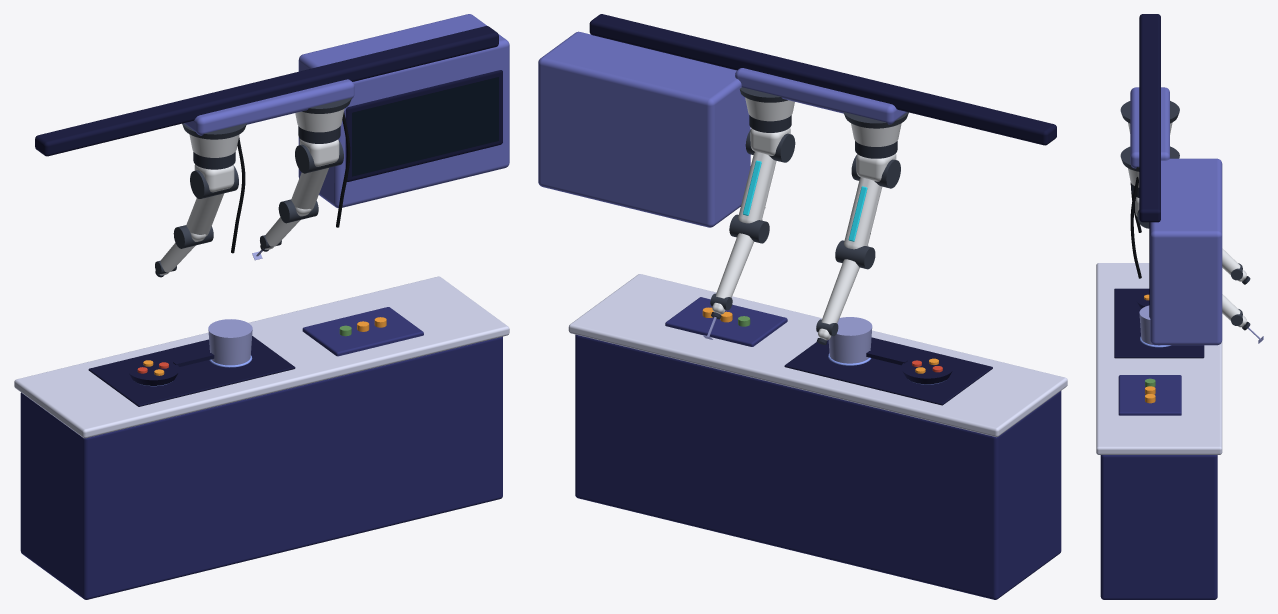
The model's file is kitchenChef.glb.
3 views of the same model, side by side, from view 1: azimuth 30°, elevation 25°; view 2: azimuth 150°, elevation 25°; view 3: azimuth 270°, elevation 25° (orthographic). The views are drawn at different scales.
Parts seen in each view (by area): view 1: counter, top, garage, rail, plates, cooktop, carBody, board, plateFrame, pot, pan, R_upperArm (+7 smaller); view 2: counter, garage, top, rail, cooktop, carBody, board, pot, L_upperArm, R_upperArm, pan, L_forearm (+7 smaller); view 3: counter, garage, top, rail, cooktop, board, carBody, pot, R_cable, L_plate, R_plate, R_forearm (+1 smaller).
Boxes of the visible parts, x1=… form: counter: x1=20, y1=336, x2=502, y2=599; top: x1=14, y1=276, x2=509, y2=438; garage: x1=298, y1=14, x2=509, y2=208; rail: x1=35, y1=26, x2=498, y2=156; plates: x1=352, y1=77, x2=498, y2=176; cooktop: x1=88, y1=336, x2=295, y2=406; carBody: x1=184, y1=79, x2=354, y2=135; board: x1=302, y1=307, x2=423, y2=356; plateFrame: x1=345, y1=70, x2=502, y2=181; pot: x1=208, y1=319, x2=252, y2=365; pan: x1=127, y1=353, x2=214, y2=385; R_upperArm: x1=291, y1=168, x2=328, y2=210; counter: x1=575, y1=334, x2=1061, y2=599; garage: x1=538, y1=31, x2=750, y2=227; top: x1=568, y1=274, x2=1067, y2=437; rail: x1=589, y1=14, x2=1056, y2=145; cooktop: x1=784, y1=337, x2=992, y2=405; carBody: x1=735, y1=68, x2=906, y2=124; board: x1=665, y1=297, x2=787, y2=346; pot: x1=828, y1=317, x2=872, y2=363; L_upperArm: x1=844, y1=177, x2=882, y2=249; R_upperArm: x1=738, y1=152, x2=776, y2=223; pan: x1=866, y1=351, x2=953, y2=384; L_forearm: x1=821, y1=259, x2=859, y2=324; counter: x1=1100, y1=455, x2=1217, y2=599; garage: x1=1150, y1=158, x2=1222, y2=345; top: x1=1096, y1=263, x2=1222, y2=454; rail: x1=1139, y1=14, x2=1160, y2=222; cooktop: x1=1114, y1=288, x2=1204, y2=358; board: x1=1118, y1=375, x2=1181, y2=415; carBody: x1=1130, y1=87, x2=1169, y2=168; pot: x1=1139, y1=305, x2=1159, y2=345; R_cable: x1=1130, y1=177, x2=1141, y2=278; L_plate: x1=1120, y1=101, x2=1179, y2=123; R_plate: x1=1120, y1=146, x2=1179, y2=171; R_forearm: x1=1222, y1=294, x2=1240, y2=320.
Size of the model in its own units: 2.7 by 2.44 by 0.9305.
